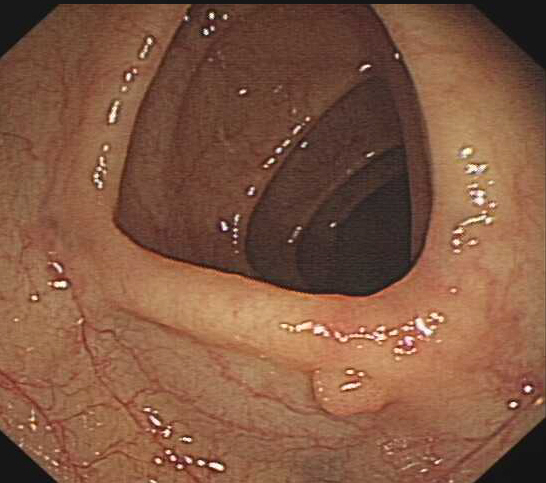adenoma: (308, 362, 390, 419)
